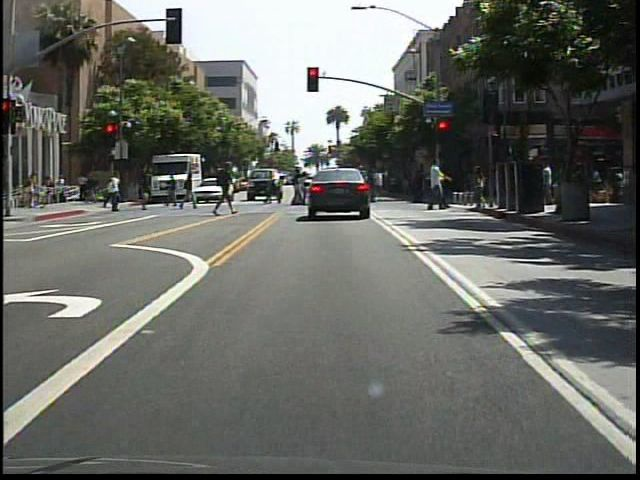person: (423, 157, 454, 214), (211, 160, 239, 217), (338, 167, 360, 216), (180, 170, 201, 212), (108, 170, 127, 216), (165, 171, 181, 211), (259, 170, 276, 207)
